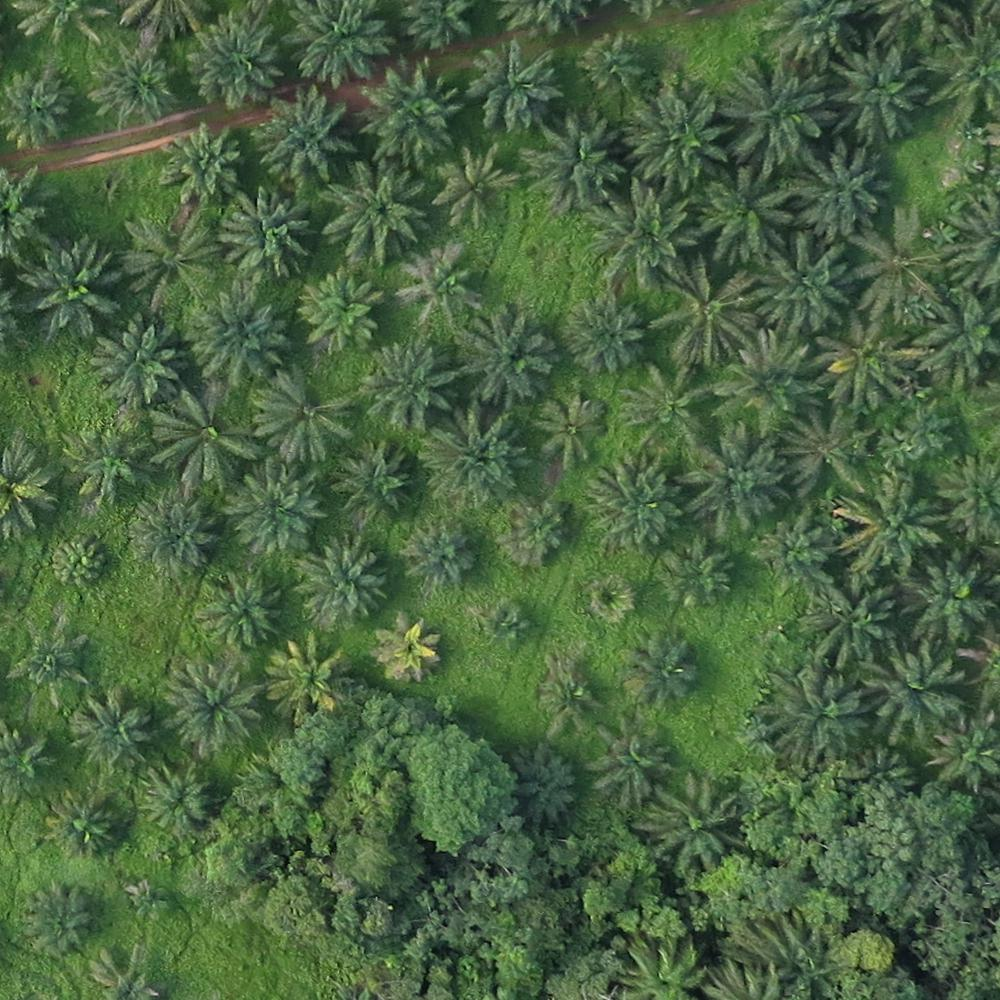Palm: (841, 208, 948, 323), (154, 652, 265, 759), (148, 386, 257, 491), (716, 60, 827, 163), (248, 366, 362, 466), (589, 182, 694, 289), (818, 307, 922, 414), (760, 660, 870, 760), (683, 421, 785, 527), (838, 472, 942, 574), (185, 286, 292, 385), (622, 89, 722, 191), (655, 262, 757, 362), (355, 62, 458, 161), (644, 772, 741, 877), (450, 308, 554, 405), (756, 232, 853, 335), (352, 336, 451, 435), (323, 162, 424, 259), (725, 331, 824, 429), (21, 242, 124, 336), (621, 359, 718, 458), (418, 411, 517, 505), (525, 113, 619, 210), (228, 460, 321, 558), (794, 583, 901, 668), (696, 168, 795, 259), (580, 462, 680, 552), (873, 650, 966, 744), (281, 4, 387, 86), (218, 193, 311, 286), (88, 315, 181, 408), (785, 145, 880, 236), (833, 45, 925, 138), (255, 90, 345, 184), (784, 404, 872, 500), (122, 211, 212, 304), (184, 17, 275, 108), (910, 292, 999, 385), (923, 17, 1000, 124), (63, 689, 155, 778), (297, 534, 385, 626), (557, 292, 648, 380), (467, 44, 557, 131), (296, 265, 386, 352), (264, 636, 355, 722), (129, 493, 217, 579), (908, 557, 991, 647), (748, 509, 836, 593), (65, 421, 148, 509), (88, 44, 172, 130), (329, 439, 416, 522), (153, 126, 239, 207), (587, 722, 669, 805), (533, 386, 614, 467), (194, 574, 278, 652), (653, 536, 739, 610), (435, 146, 514, 226), (398, 251, 480, 327), (21, 885, 101, 961), (511, 741, 581, 827), (12, 631, 89, 707), (623, 630, 699, 707), (403, 517, 481, 592), (370, 615, 448, 685), (501, 499, 574, 572), (136, 762, 211, 833), (49, 793, 127, 861), (1, 71, 71, 144), (932, 716, 1000, 785), (577, 30, 645, 97)
